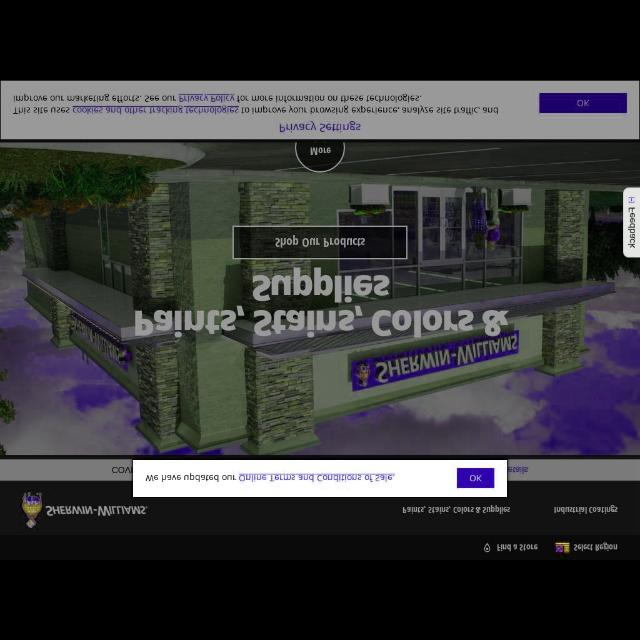backgroundimage: (1, 143, 639, 455)
icon: (484, 544, 491, 552), (629, 197, 635, 203)
image: (22, 492, 148, 528), (556, 543, 570, 553)
link: (73, 106, 239, 114), (239, 473, 395, 481), (180, 94, 234, 102)
text: (136, 268, 508, 338), (13, 93, 499, 115), (147, 473, 395, 481), (275, 235, 365, 248), (403, 504, 511, 514), (280, 121, 360, 133), (554, 504, 618, 514), (574, 542, 618, 552), (498, 544, 538, 552), (628, 207, 636, 247), (470, 475, 482, 481), (578, 100, 590, 106)
textbutton: (232, 226, 408, 258), (539, 93, 627, 113), (458, 468, 494, 488)
toolbar: (1, 536, 640, 560)
